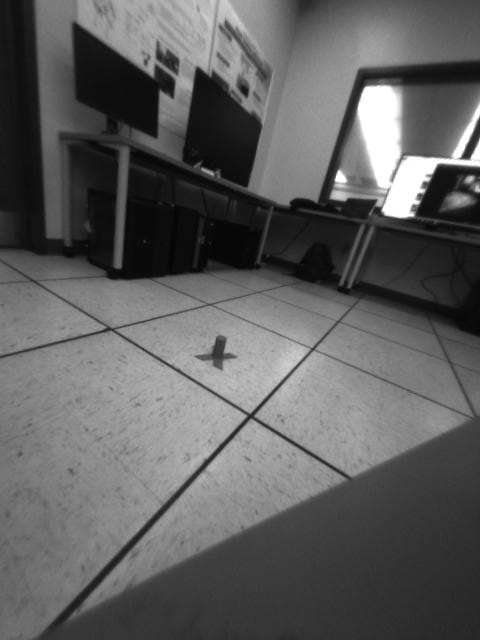X: (193, 335, 239, 371)
